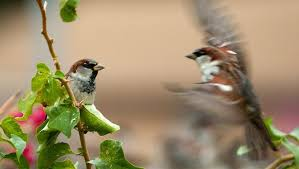hsparrow: (160, 4, 278, 159), (53, 55, 108, 106)
